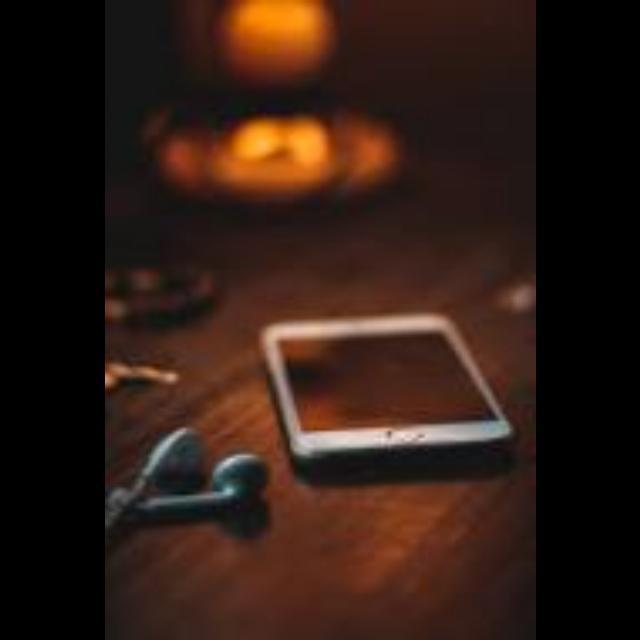PhoneUse: (266, 318, 514, 456)
